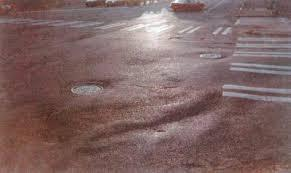Pothole: (88, 88, 233, 143), (68, 72, 127, 98), (235, 16, 291, 43), (194, 45, 229, 67)
